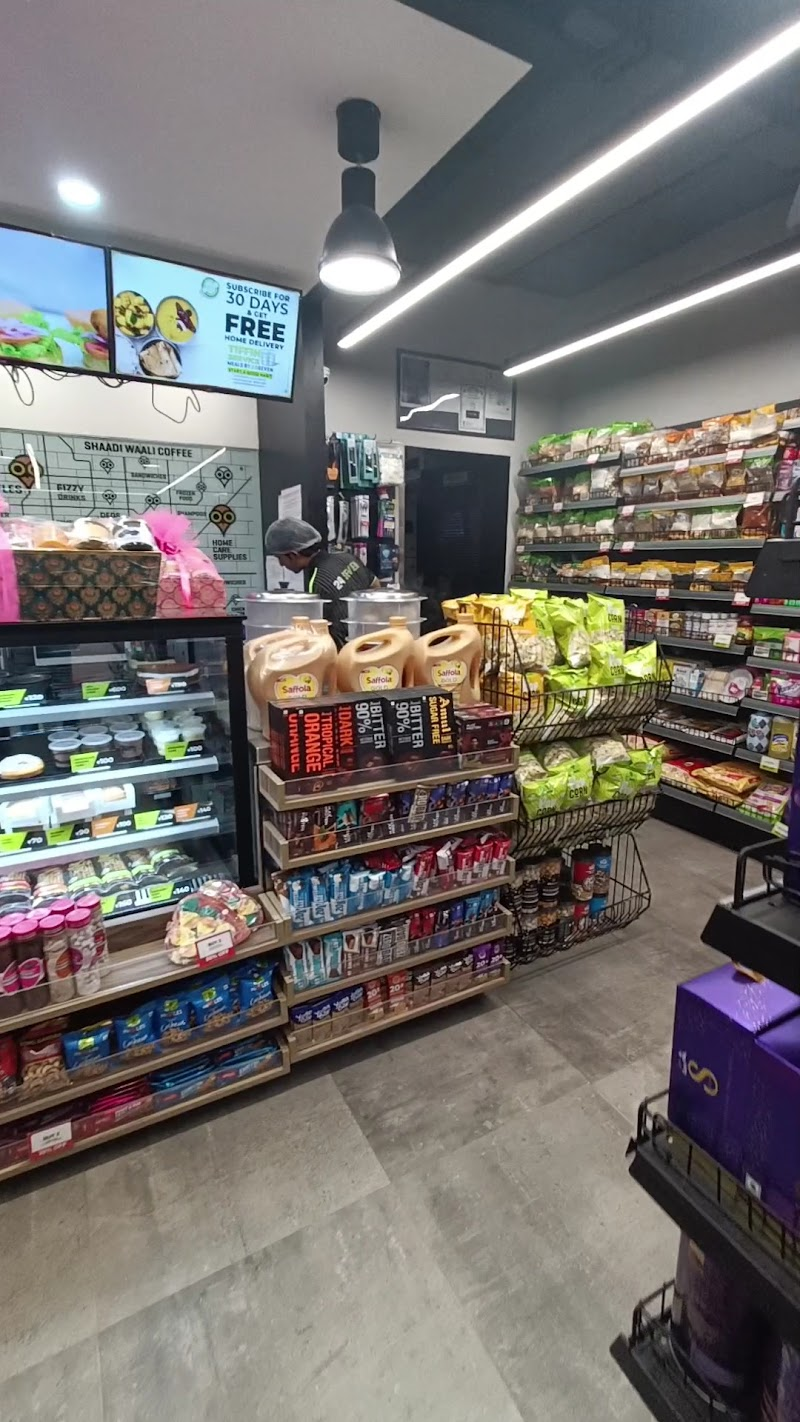other: (0, 619, 668, 1181)
saffola: (230, 607, 354, 724), (342, 617, 483, 710)
